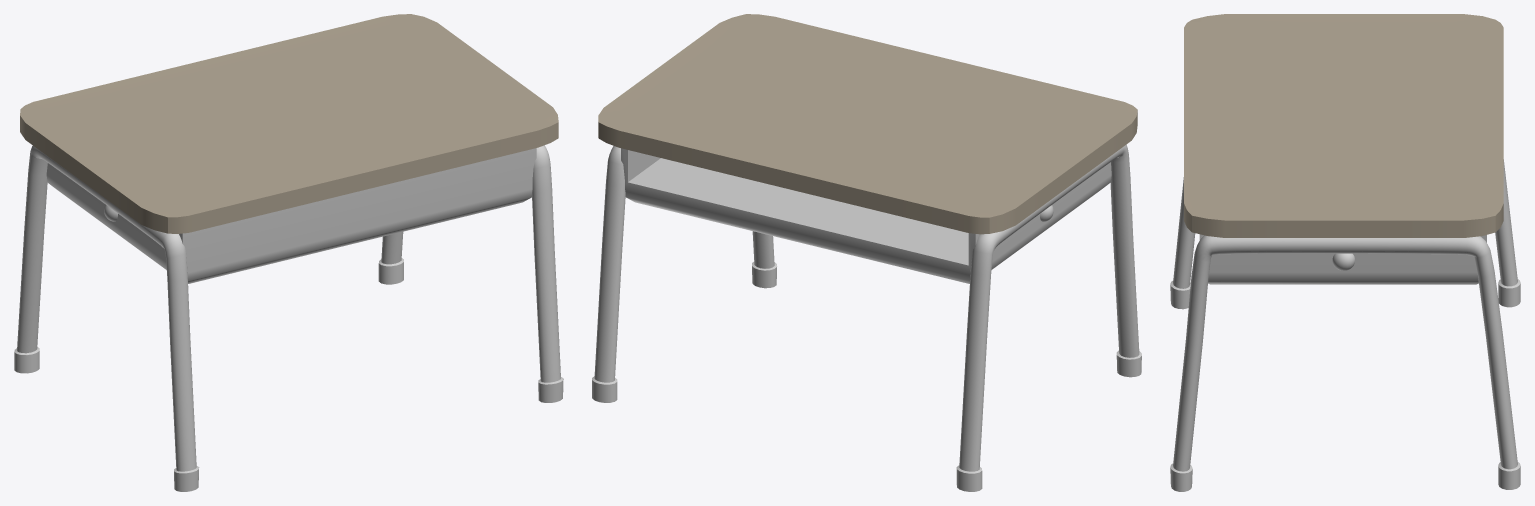
The model's file is Escritorio.fbx.
The picture shows the model from 3 angles, left to right: view 1: azimuth 30°, elevation 25°; view 2: azimuth 150°, elevation 25°; view 3: azimuth 270°, elevation 25°; orthographic projection. The views are drawn at different scales.
Parts seen in each view (by area): view 1: Escritorio; view 2: Escritorio; view 3: Escritorio.
Part boxes in pixels (left/top/right/bottom): Escritorio: left=14, top=14, right=563, bottom=491; Escritorio: left=592, top=14, right=1141, bottom=491; Escritorio: left=1170, top=14, right=1520, bottom=491.
Bounding box in the file's own units: 2.43 × 1.53 × 1.74.
